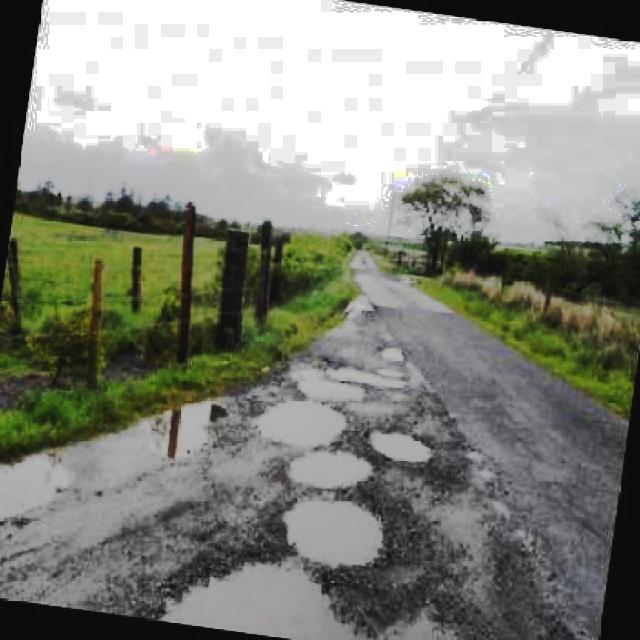pothole: (157, 538, 375, 640), (272, 488, 396, 570), (296, 357, 412, 406), (252, 399, 360, 443), (290, 442, 376, 489), (370, 422, 436, 466)
